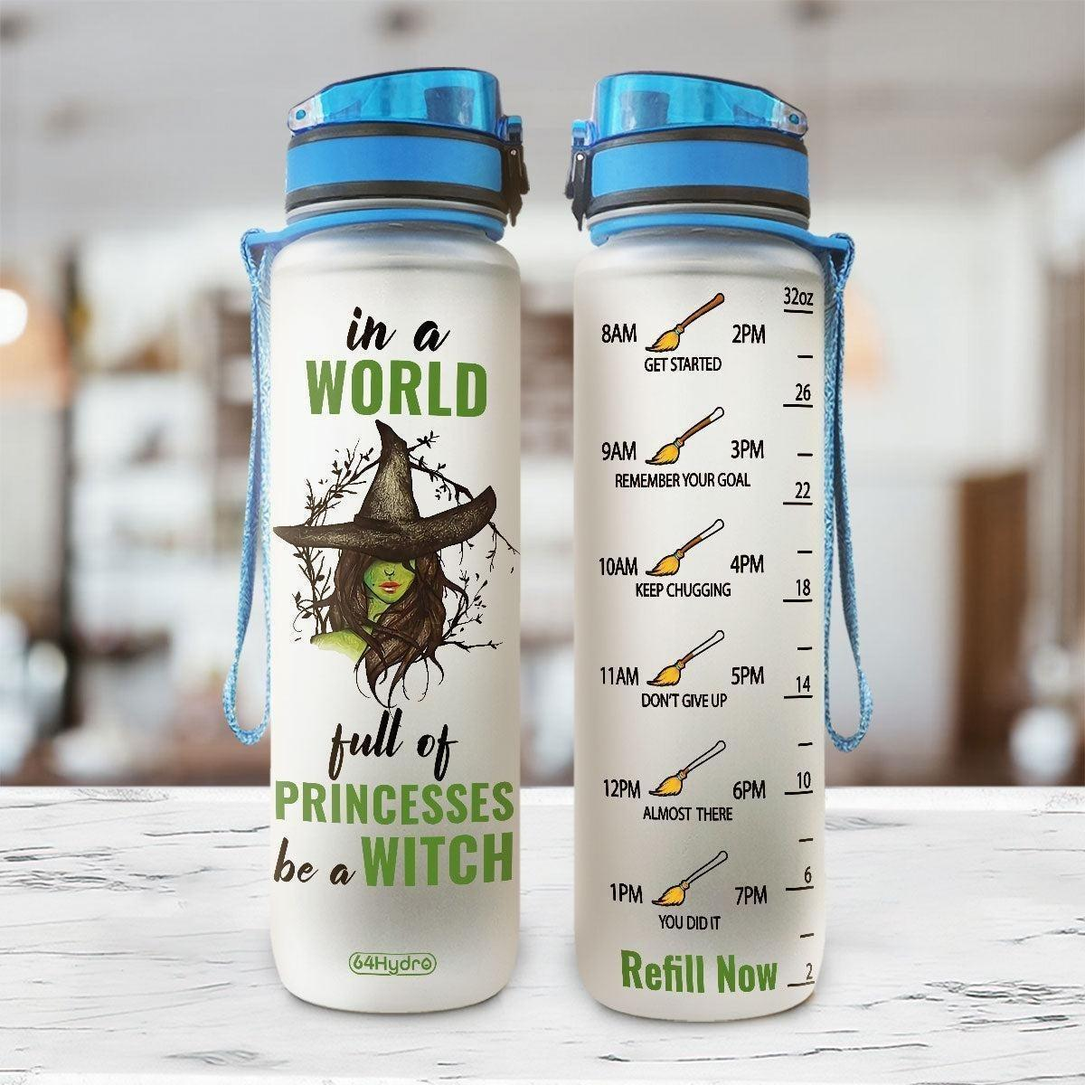gym bottle: (563, 71, 853, 1027), (250, 66, 533, 1021)
